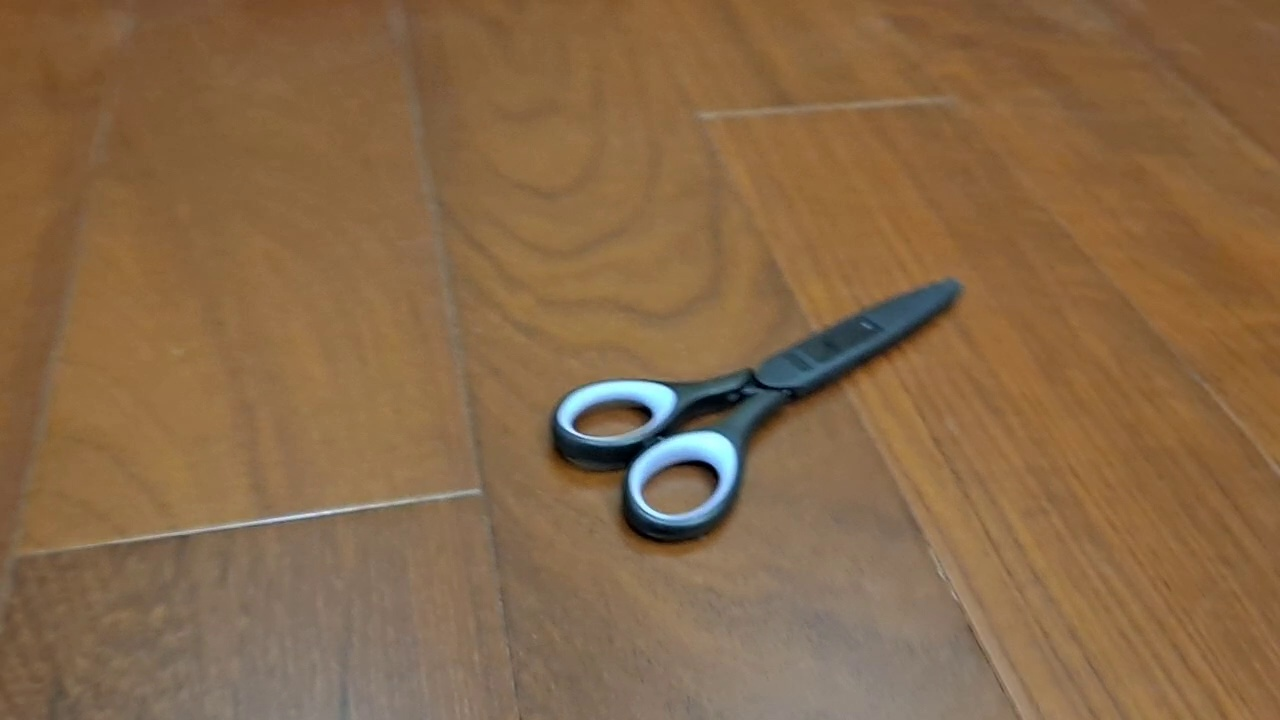scissors: (548, 275, 966, 546)
